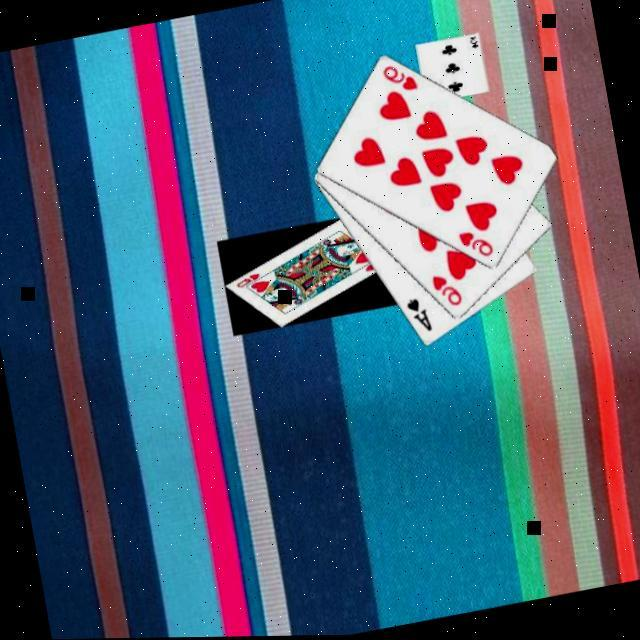9H: (456, 224, 499, 264), (380, 58, 423, 98), (429, 269, 467, 312)
AS: (404, 293, 437, 337)
